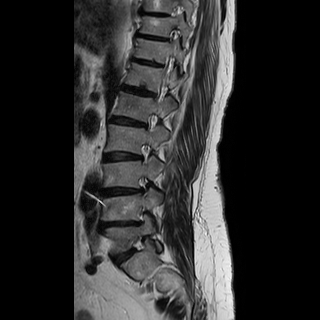RFS0: (133, 139, 157, 169), (140, 107, 164, 135)
RFS2: (131, 170, 156, 202)
